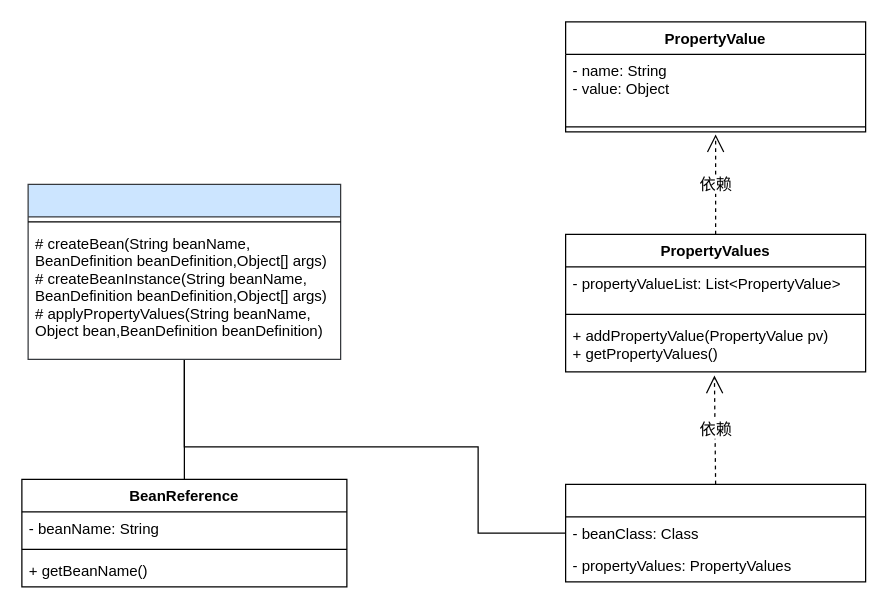
The diagram is 888 pixels wide and 613 high, and some of its shapes have lost their labels. Here are the shapes that lost their labels. From the top down, the box of each, then its label:
(27, 183, 341, 359): AbstractAutowireCapableBeanFactory
(564, 483, 866, 582): BeanDefinition
